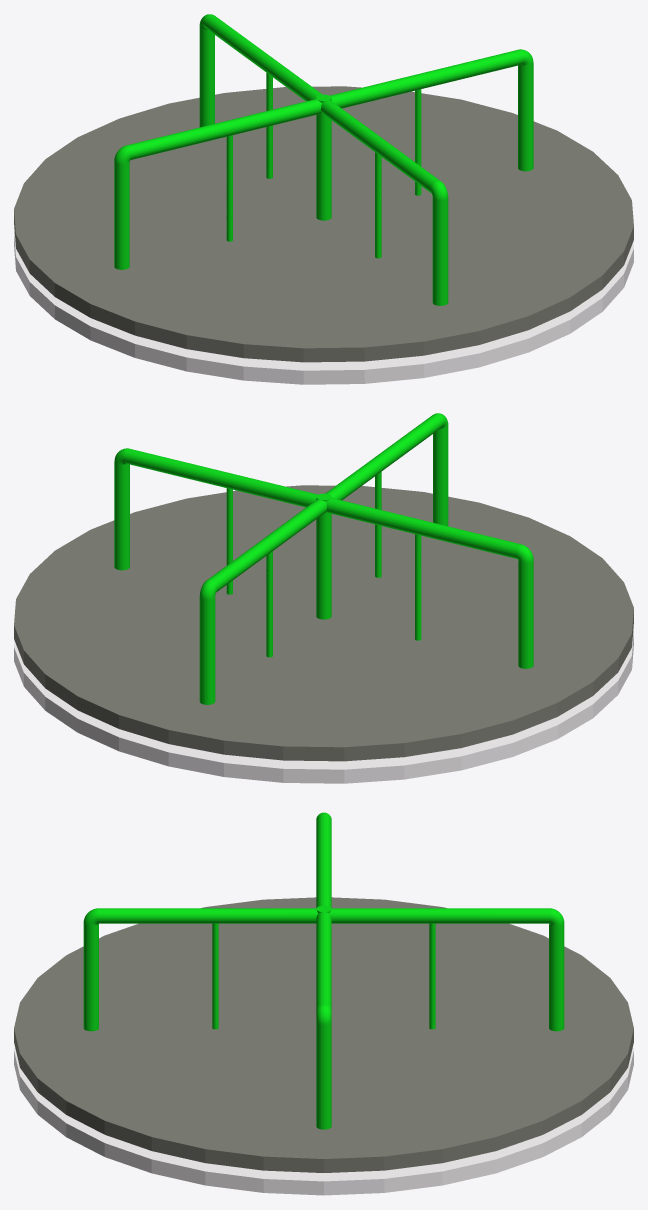
The model's file is putar.fbx.
3 views of the same model, one above another, from view 1: azimuth 30°, elevation 25°; view 2: azimuth 150°, elevation 25°; view 3: azimuth 270°, elevation 25° (orthographic).
Visible parts, largest first — view 1: Cylinder.001, Cylinder.008; view 2: Cylinder.001, Cylinder.008; view 3: Cylinder.001, Cylinder.008.
Part boxes in pixels (x1,y1,x2,y2): Cylinder.001: (14,14,633,362); Cylinder.008: (14,230,633,384); Cylinder.001: (14,413,633,761); Cylinder.008: (14,629,633,783); Cylinder.001: (14,812,633,1172); Cylinder.008: (14,1047,633,1195).
Bounding box in the file's own units: 400 × 111 × 400.
